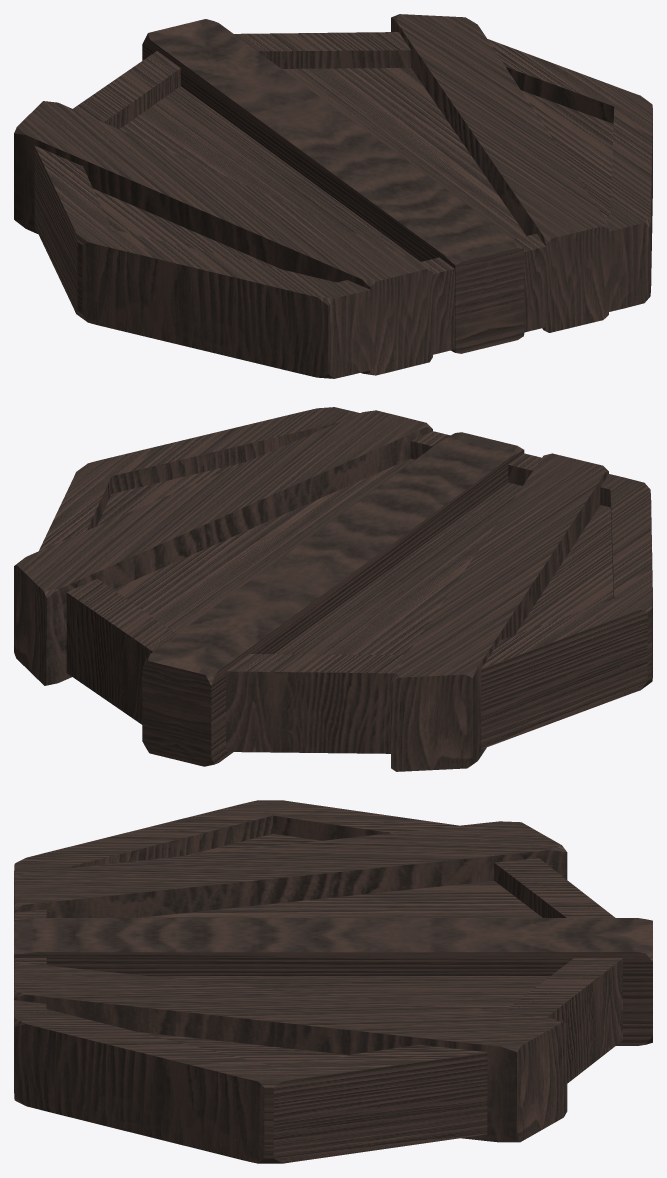
Rendered from dark-cirya-basic.glb.
3 views of the same model, one above another, from view 1: azimuth 30°, elevation 25°; view 2: azimuth 150°, elevation 25°; view 3: azimuth 270°, elevation 25° (orthographic). The views are drawn at different scales.
Parts seen in each view (by area): view 1: Cube.009; view 2: Cube.009; view 3: Cube.009.
Boxes of the visible parts, x1,y1,x2,y2 form: Cube.009: [14, 14, 652, 378]; Cube.009: [14, 407, 652, 771]; Cube.009: [14, 800, 652, 1163].
Bounding box in the file's own units: 1.99 × 0.3135 × 1.89.
1 material, 1 textured.
